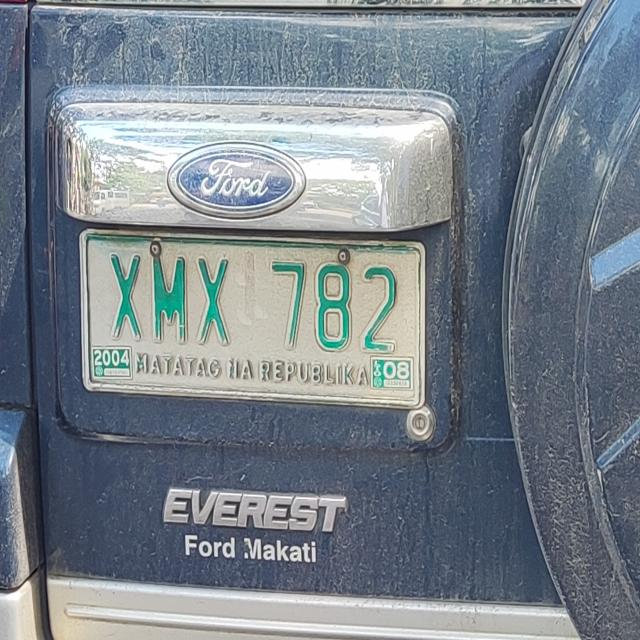plate: (75, 224, 430, 414)
